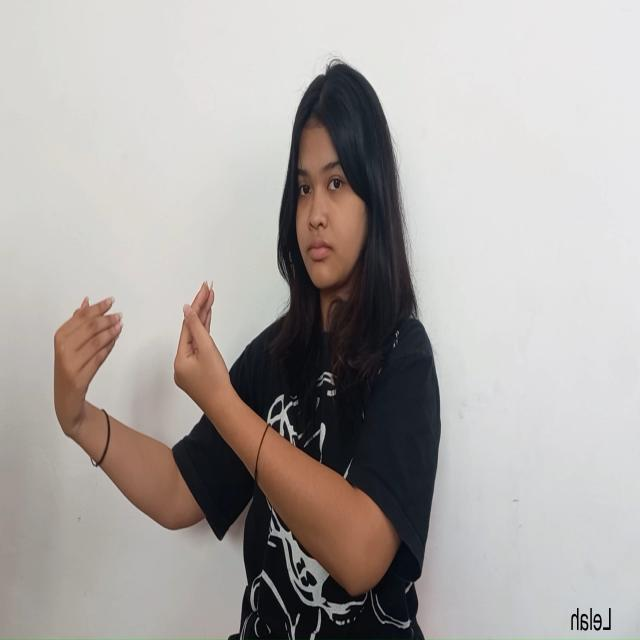Lelah -BISINDO-: (51, 277, 232, 442)
